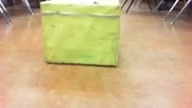cube: (39, 1, 121, 67)
